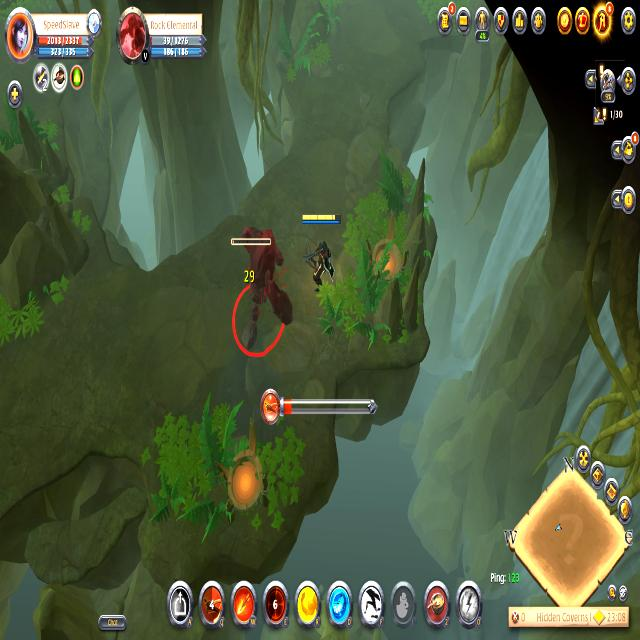ore: (223, 228, 296, 367)
red: (300, 205, 344, 302)
